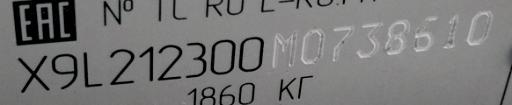letter: (265, 28, 301, 71), (48, 49, 82, 92), (234, 35, 266, 78), (18, 52, 50, 94), (326, 21, 356, 64), (156, 40, 186, 83), (106, 47, 136, 90), (464, 10, 496, 49), (411, 13, 441, 54), (382, 16, 412, 57), (298, 24, 328, 65), (183, 39, 209, 84), (439, 11, 467, 52), (355, 19, 383, 60), (208, 37, 236, 78), (81, 49, 105, 90), (135, 43, 157, 86)
